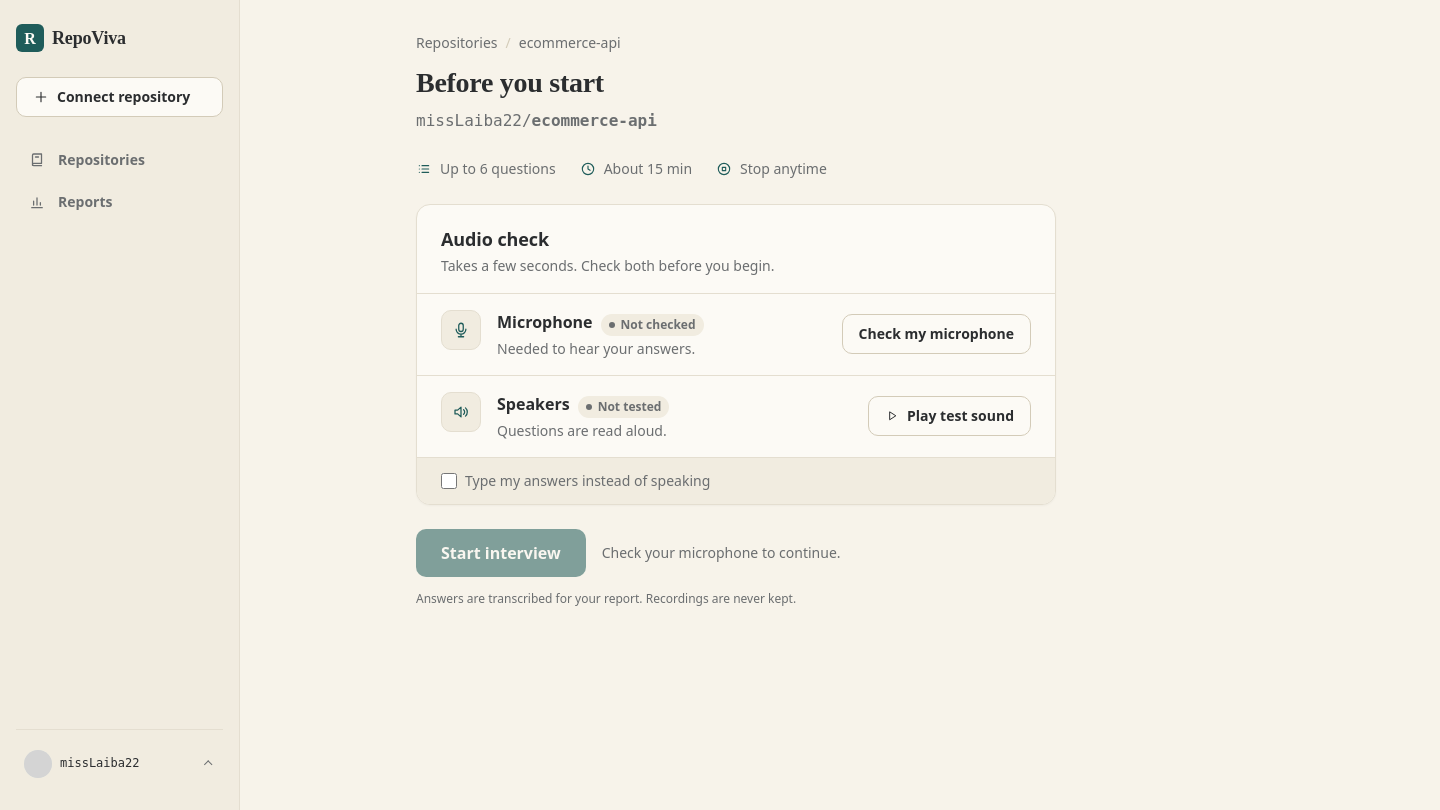
Scenario: interview setup › shows a message and stays put if the interview can't be created
Click the checkbox labelled "Type my answers instead of speaking" at point(449, 481), box [441,473,457,489]
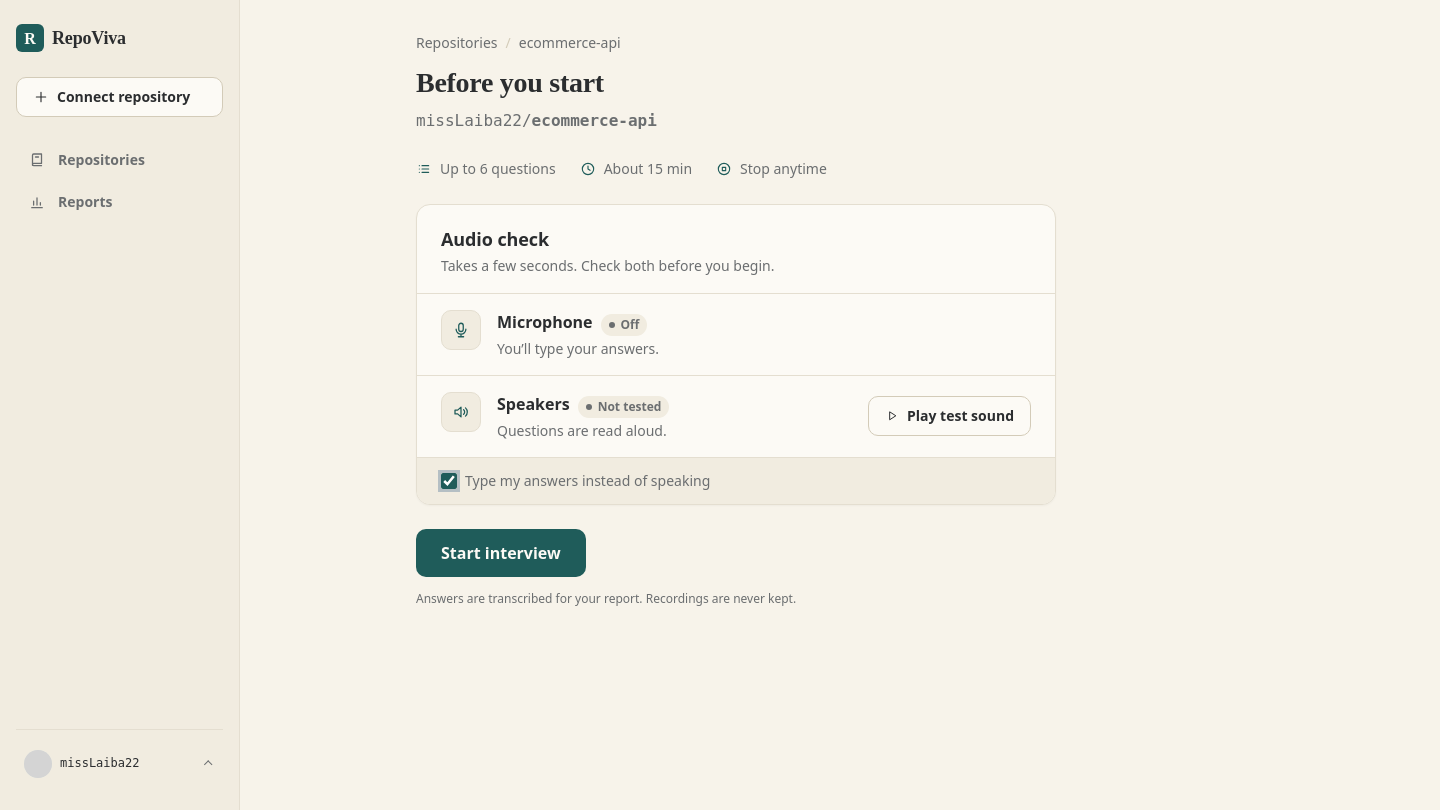
Click the button "Start interview" at point(501, 553), box [416,529,586,577]
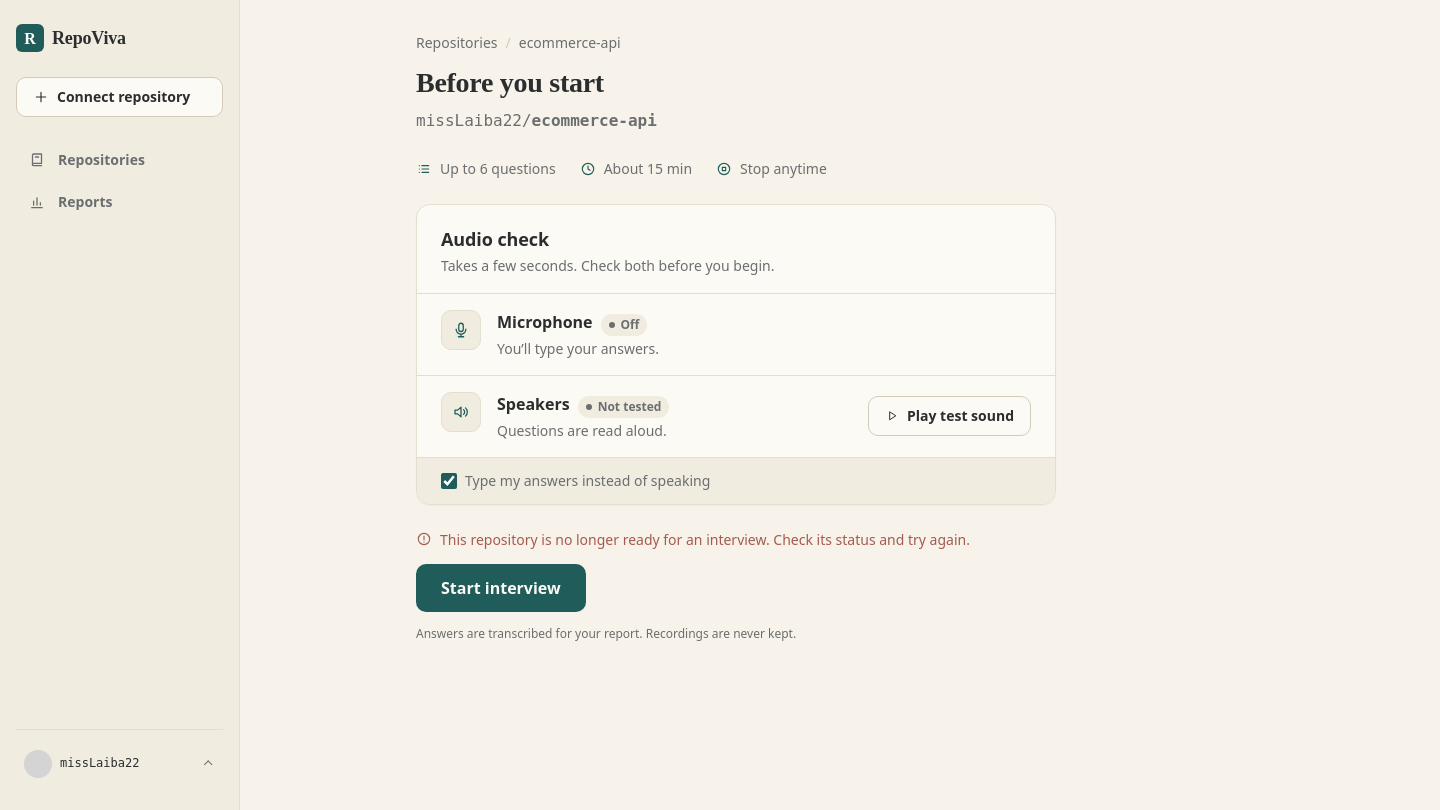
Expected: the message shows "no longer ready", [440,530,970,549]
